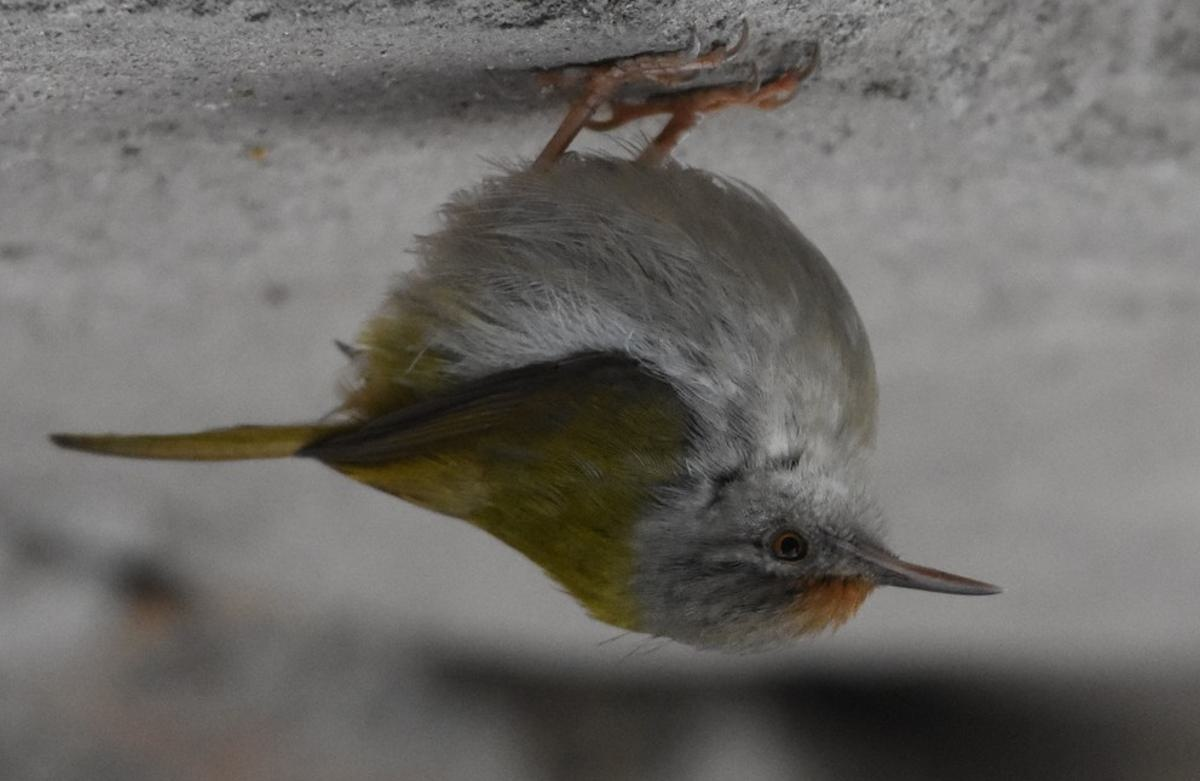tailorbird: (91, 101, 990, 640)
